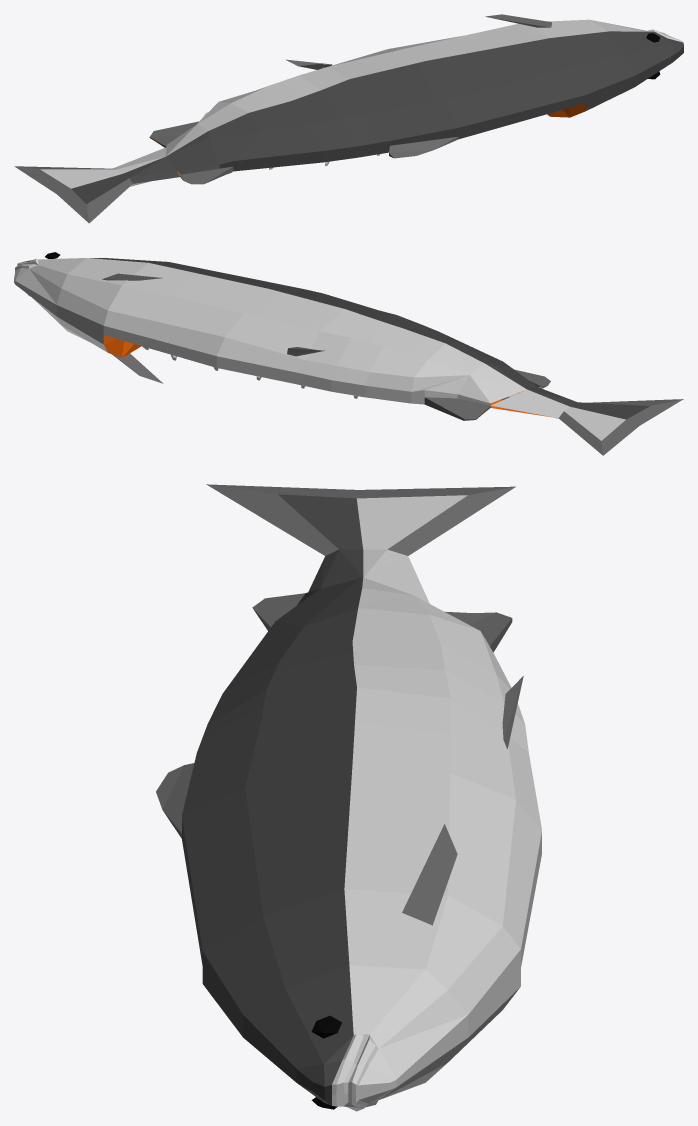
Rendered from SalmonDrip.glb.
3 renders of one model, top to bottom at view 1: azimuth 30°, elevation 25°; view 2: azimuth 150°, elevation 25°; view 3: azimuth 270°, elevation 25°, orthographic. The views are drawn at different scales.
Visible parts, largest first — view 1: SalmonDrip; view 2: SalmonDrip; view 3: SalmonDrip.
Boxes of the visible parts, bbox=[...] form: SalmonDrip: bbox=[14, 14, 683, 223]; SalmonDrip: bbox=[14, 252, 683, 455]; SalmonDrip: bbox=[156, 484, 541, 1111].
Bounding box in the file's own units: 0.7588 × 0.1213 × 0.2026.
Materials: 1 (1 with a texture image).
